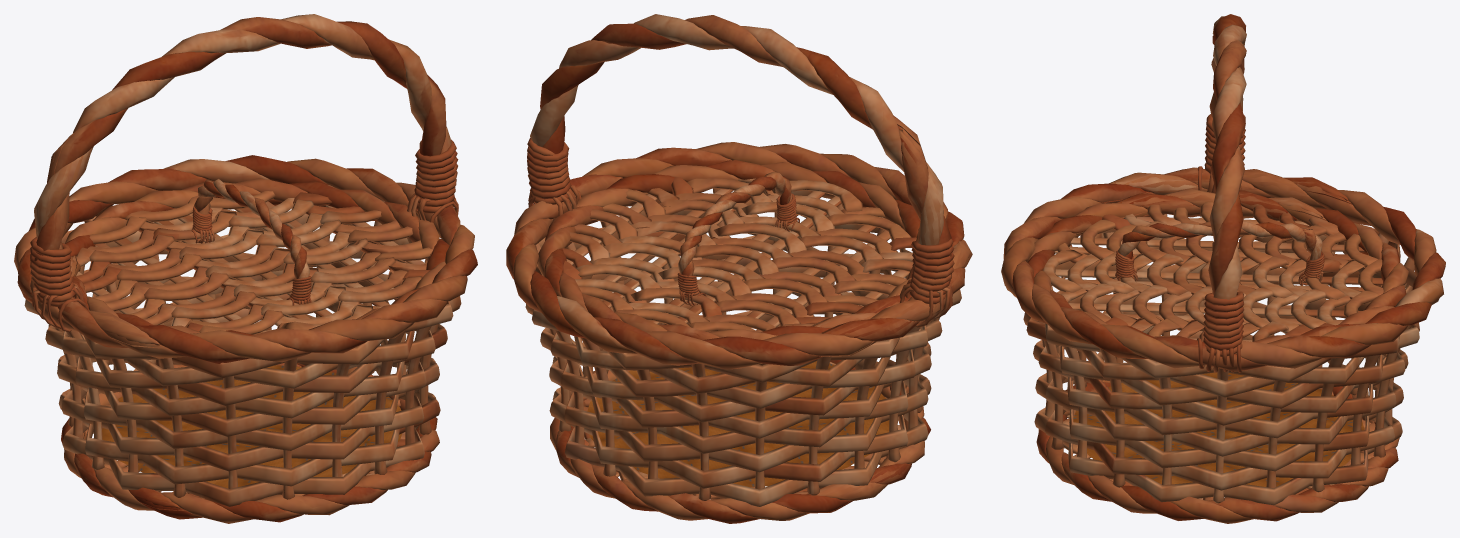
Rendered from Cestino.fbx.
3 views of the same model, side by side, from view 1: azimuth 30°, elevation 25°; view 2: azimuth 150°, elevation 25°; view 3: azimuth 270°, elevation 25° (orthographic). The views are drawn at different scales.
Visible parts, largest first — view 1: Basket, BasketTag; view 2: Basket, BasketTag; view 3: Basket, BasketTag.
Boxes of the visible parts, x1,y1,x2,y2 form: Basket: [14, 14, 477, 523]; BasketTag: [65, 178, 449, 335]; Basket: [506, 14, 972, 523]; BasketTag: [538, 160, 920, 339]; Basket: [1001, 14, 1445, 523]; BasketTag: [1026, 189, 1408, 343].
Bounding box in the file's own units: 12.73 × 12.41 × 12.09.
